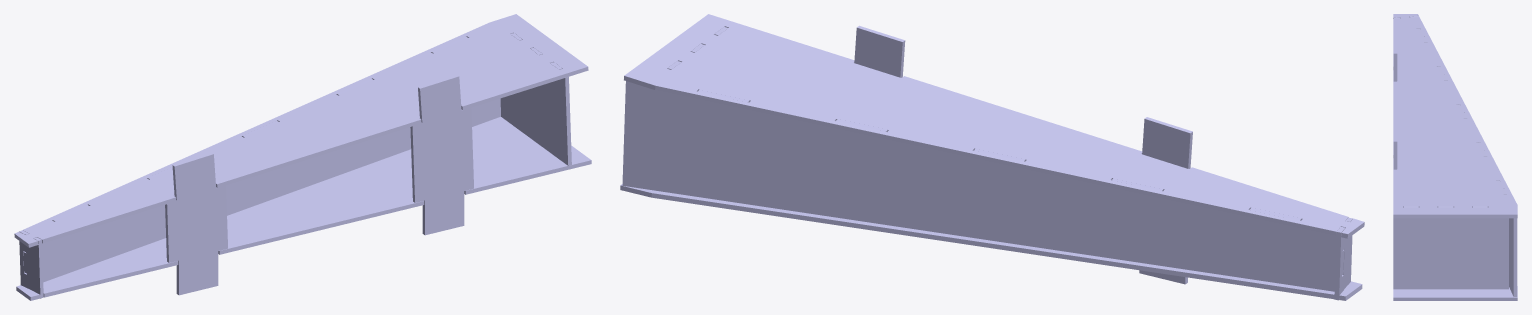
File: slide_long.dae
3 views of the same model, side by side, from view 1: azimuth 30°, elevation 25°; view 2: azimuth 150°, elevation 25°; view 3: azimuth 270°, elevation 25° (orthographic). The views are drawn at different scales.
Parts seen in each view (by area): view 1: node3, node0, node1, node6, node5, node4, node2; view 2: node1, node3, node0, node5, node6, node2; view 3: node3, node4, node0, node1, node5, node6.
Part boxes in pixels (<box>): node3: <box>14,14,588,247</box>; node0: <box>16,117,591,300</box>; node1: <box>23,36,500,282</box>; node6: <box>410,75,473,235</box>; node5: <box>165,152,227,295</box>; node4: <box>500,33,571,165</box>; node2: <box>19,230,43,298</box>; node1: <box>622,81,1344,291</box>; node3: <box>624,14,1364,238</box>; node0: <box>620,184,1362,300</box>; node5: <box>1139,117,1192,284</box>; node6: <box>854,25,905,77</box>; node2: <box>1334,217,1352,300</box>; node3: <box>1393,14,1517,218</box>; node4: <box>1393,206,1508,289</box>; node0: <box>1393,70,1517,300</box>; node1: <box>1417,28,1517,296</box>; node5: <box>1393,39,1397,81</box>; node6: <box>1393,127,1397,169</box>.
Size of the model in its own units: 0.572 by 0.1267 by 0.1463.
